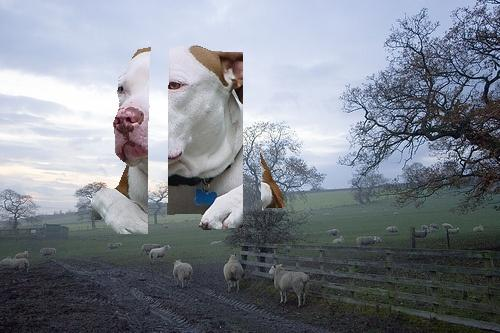tampered: (92, 46, 286, 234)
